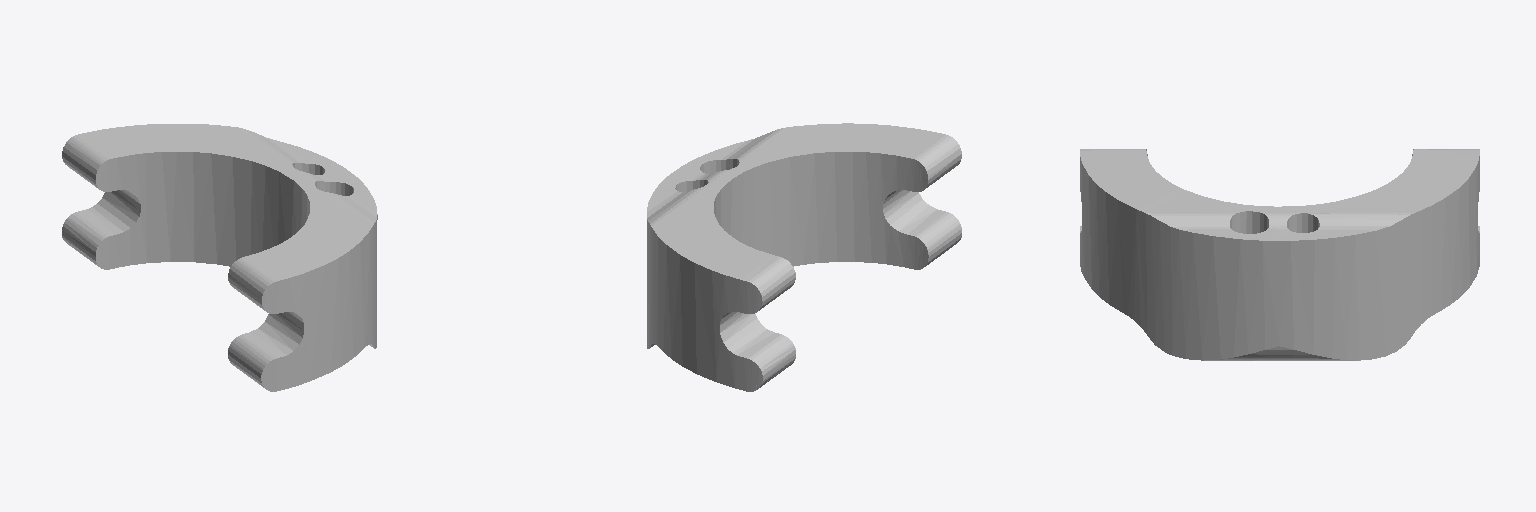
File: seg6.OBJ
The picture shows the model from 3 angles: view 1: azimuth 30°, elevation 25°; view 2: azimuth 150°, elevation 25°; view 3: azimuth 270°, elevation 25°; orthographic projection.
Visible parts, largest first — view 1: /ambf/env/seg6_seg6; view 2: /ambf/env/seg6_seg6; view 3: /ambf/env/seg6_seg6.
Boxes of the visible parts, x1=… form: /ambf/env/seg6_seg6: x1=62, y1=124, x2=377, y2=391; /ambf/env/seg6_seg6: x1=647, y1=123, x2=961, y2=391; /ambf/env/seg6_seg6: x1=1080, y1=149, x2=1479, y2=360.
Bounding box in the file's own units: 0.0033 × 0.0022 × 0.006.